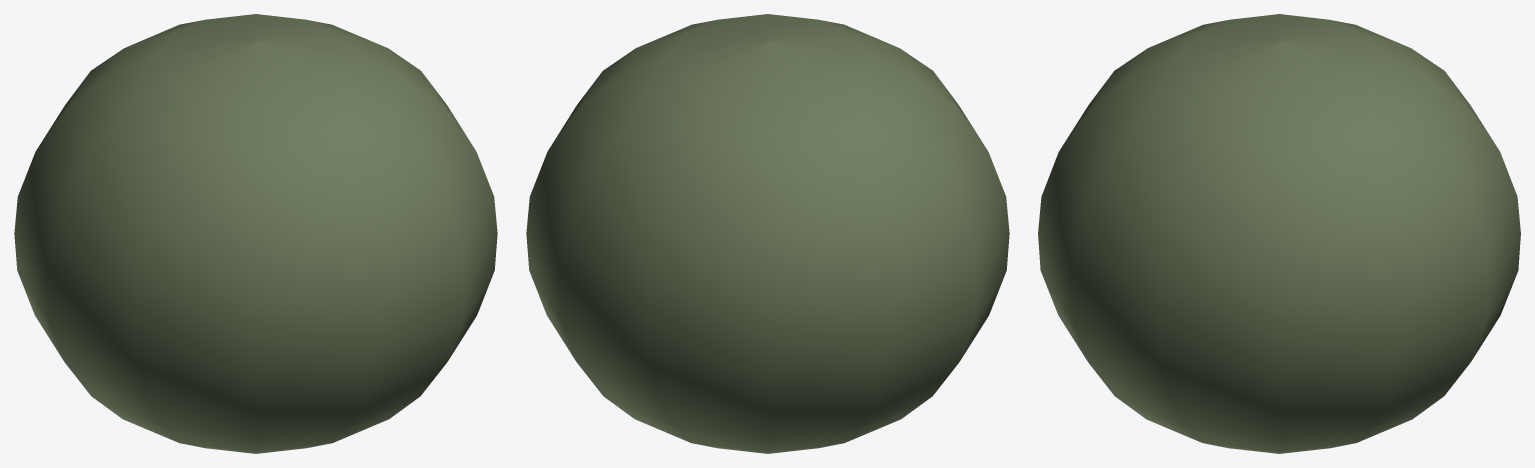
The model's file is Rose_Analytical_0.obj.
3 renders of one model, left to right at view 1: azimuth 30°, elevation 25°; view 2: azimuth 150°, elevation 25°; view 3: azimuth 270°, elevation 25°, orthographic.
Parts seen in each view (by area): view 1: AnalyticalCrown; view 2: AnalyticalCrown; view 3: AnalyticalCrown.
Part boxes in pixels (x1,y1,x2,y2): AnalyticalCrown: [14, 14, 497, 453]; AnalyticalCrown: [526, 14, 1009, 453]; AnalyticalCrown: [1038, 14, 1520, 453].
Size of the model in its own units: 1.14 by 1 by 1.14.
